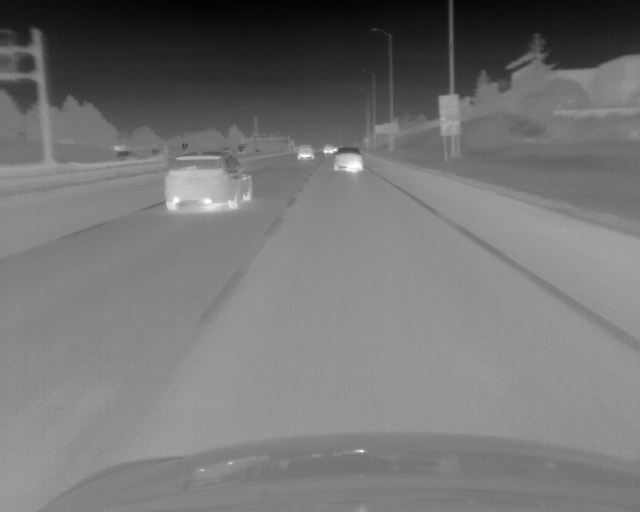car: (163, 152, 254, 210), (334, 147, 364, 173), (297, 144, 314, 160), (322, 142, 334, 154)
